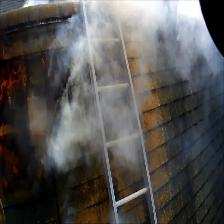smoke: (89, 2, 204, 52), (55, 78, 114, 161)
